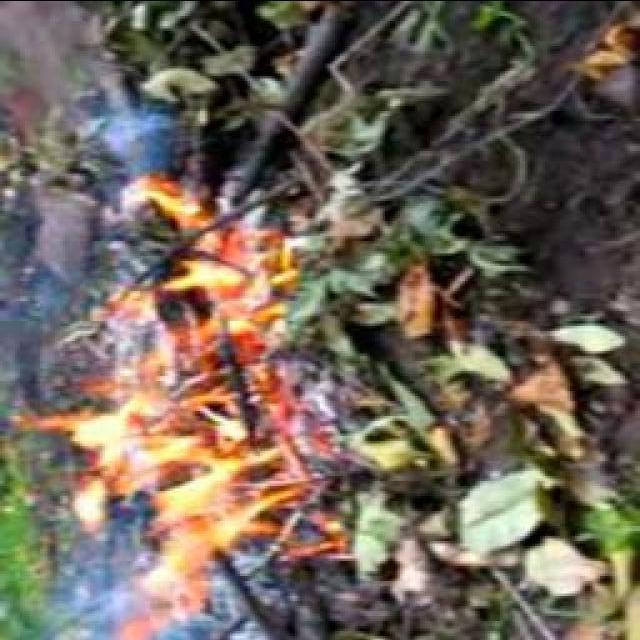Fire: (40, 203, 282, 584)
